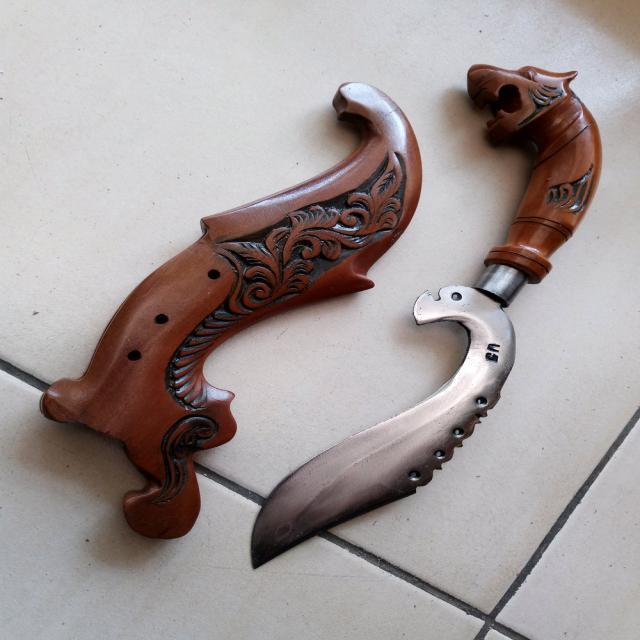Pisau: (247, 49, 623, 577)
